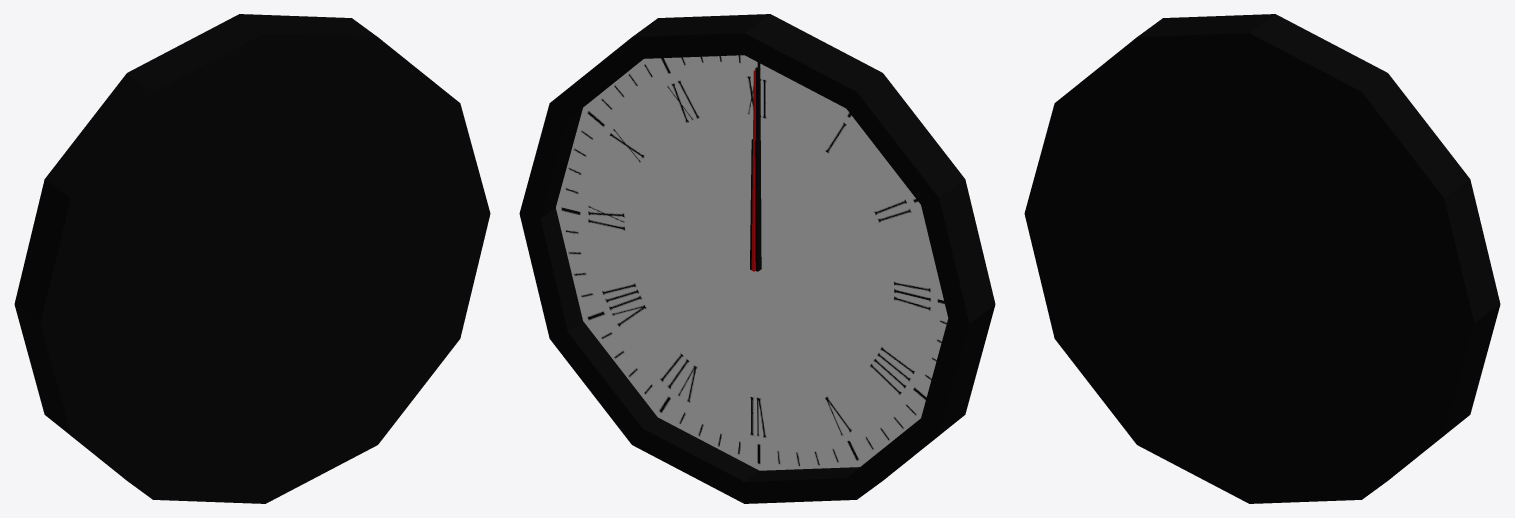
Rendered from Clock3v2.fbx.
3 views of the same model, side by side, from view 1: azimuth 30°, elevation 25°; view 2: azimuth 150°, elevation 25°; view 3: azimuth 330°, elevation 25° (orthographic).
Visible parts, largest first — view 1: Clock; view 2: Clock, Minutes, Hours, Seconds; view 3: Clock.
Part boxes in pixels (left/top/right/bottom): Clock: left=14, top=14, right=490, bottom=503; Clock: left=519, top=14, right=995, bottom=503; Minutes: left=755, top=67, right=761, bottom=271; Hours: left=750, top=139, right=758, bottom=271; Seconds: left=751, top=70, right=755, bottom=271; Clock: left=1024, top=14, right=1500, bottom=503.
Bounding box in the file's own units: 200 × 200 × 20.07.
